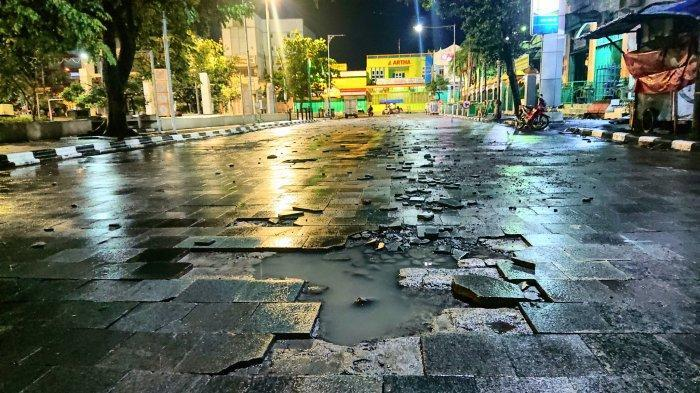Pothole: (223, 193, 576, 342)
